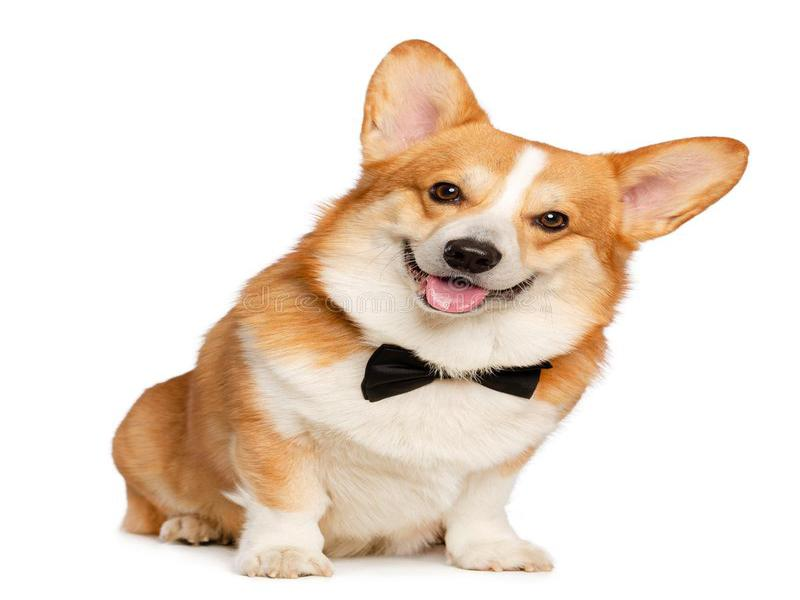corgi: (307, 38, 751, 354)
